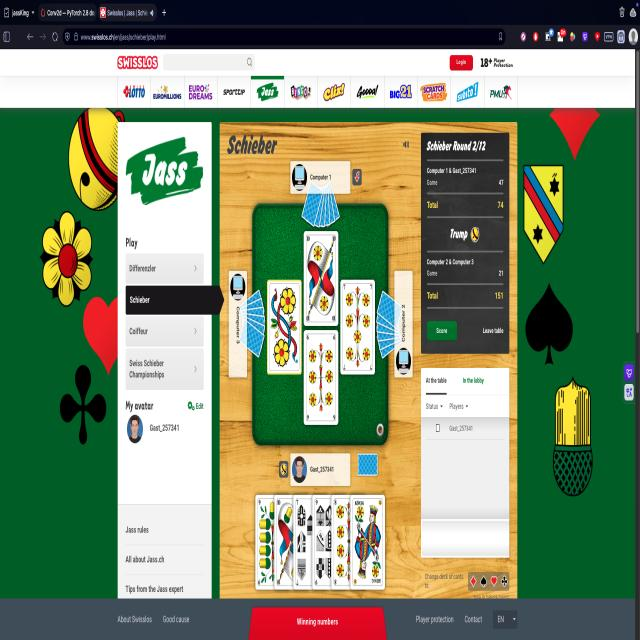ei10: (274, 492, 308, 588)
ei8: (332, 493, 363, 588)
ei9: (256, 495, 290, 592)
ro10: (305, 235, 337, 322)
ro6: (303, 330, 337, 424)
ro7: (342, 282, 375, 371)
roa: (268, 280, 302, 371)
rok: (351, 494, 386, 591)
si10: (294, 492, 323, 591)
si9: (313, 494, 346, 591)
